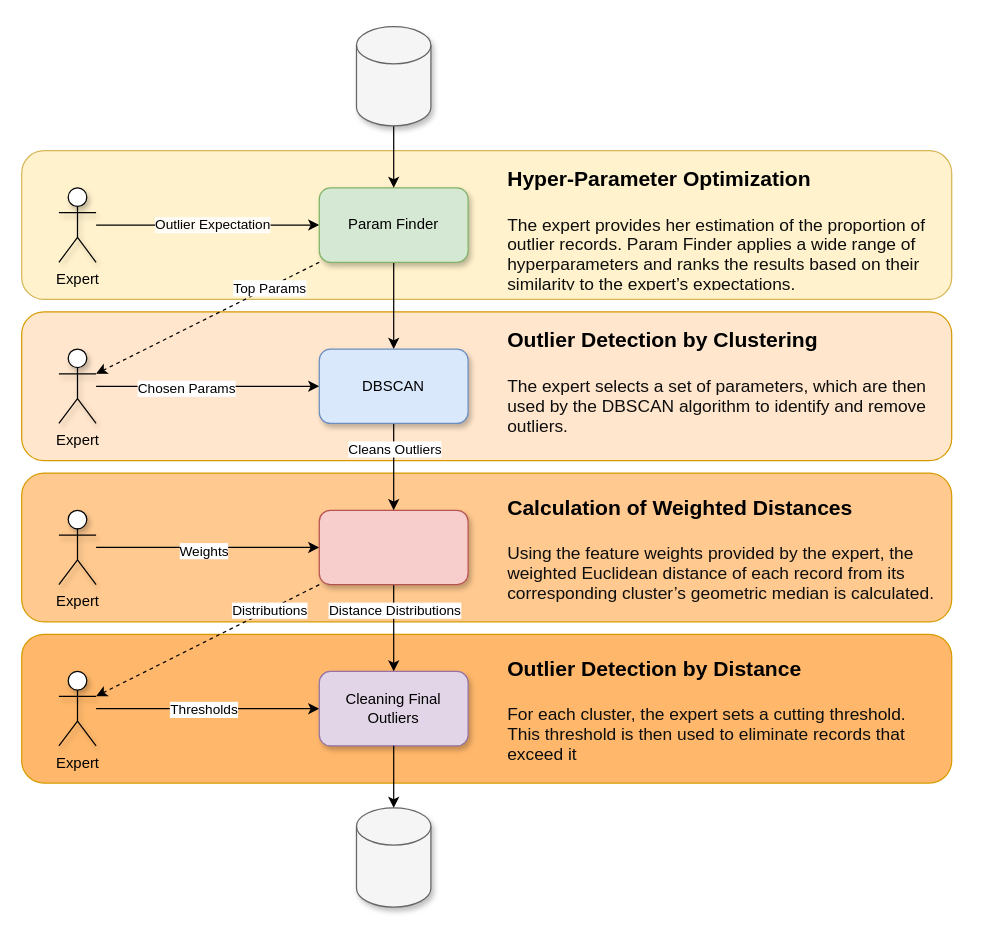
This 998x937 diagram has some shape labels left out. The centre of each missing label's shape, as x and y in pixels:
Calculate Weighted Distances: (394,548)
Clean Data: (394,859)
Raw Data: (394,77)
